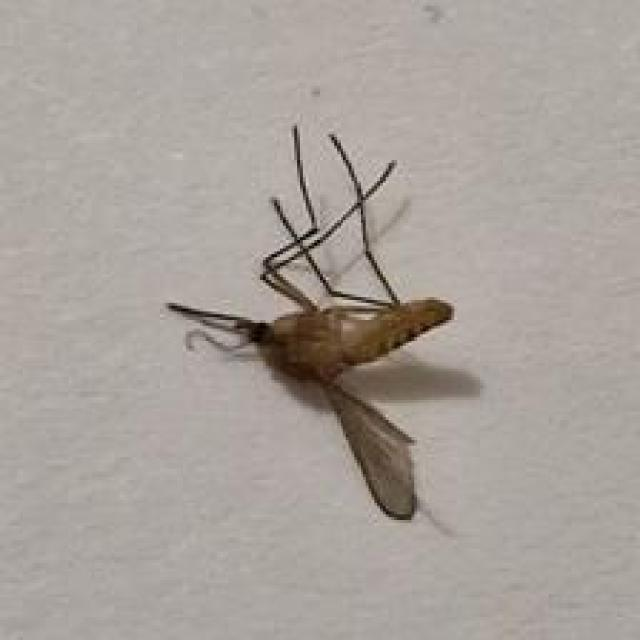Culex: (164, 121, 456, 524)
